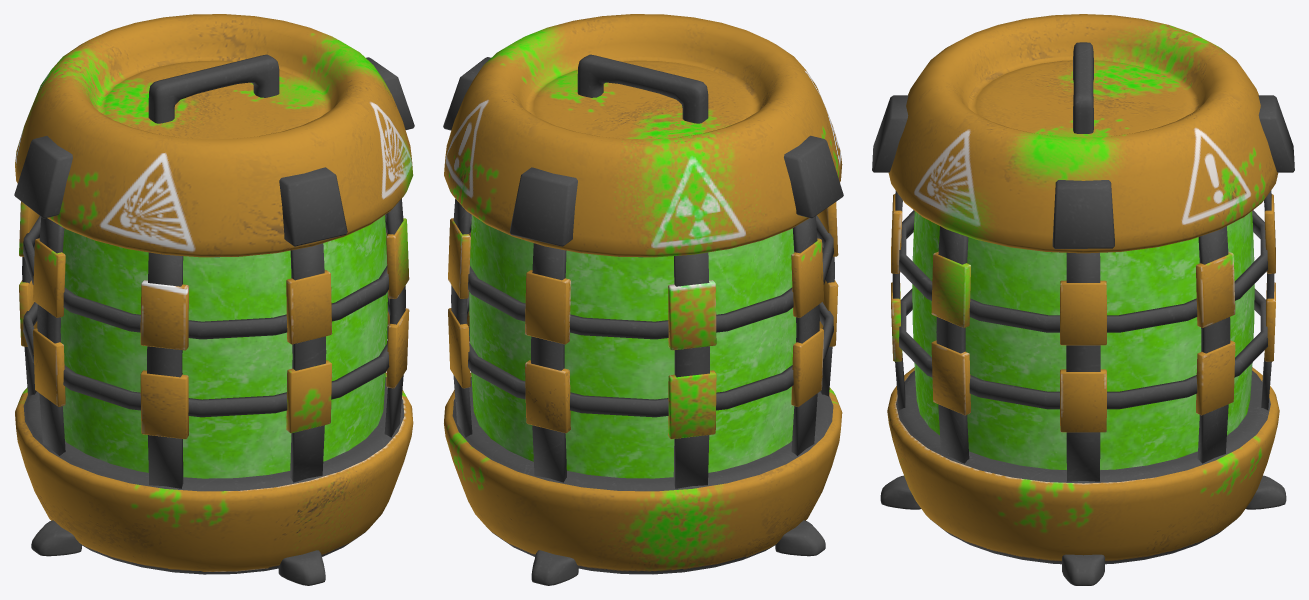
File: Radioactive Barrel Scifi Props.fbx
3 views of the same model, side by side, from view 1: azimuth 30°, elevation 25°; view 2: azimuth 150°, elevation 25°; view 3: azimuth 270°, elevation 25° (orthographic).
Parts seen in each view (by area): view 1: Radioactive Barrel Scifi Props; view 2: Radioactive Barrel Scifi Props; view 3: Radioactive Barrel Scifi Props.
Boxes of the visible parts, box(x1,y1,x2,y2) form: Radioactive Barrel Scifi Props: box(14, 14, 414, 585); Radioactive Barrel Scifi Props: box(443, 14, 843, 585); Radioactive Barrel Scifi Props: box(872, 14, 1294, 585).
Size of the model in its own units: 71.68 by 80.82 by 71.68.
